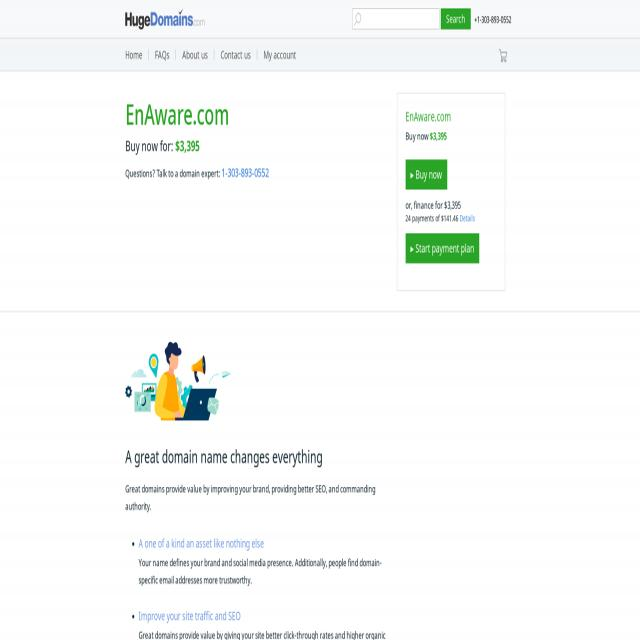button: (125, 342, 231, 420), (405, 234, 479, 263), (125, 9, 205, 29), (405, 160, 447, 189), (257, 44, 303, 65), (214, 44, 257, 65), (176, 44, 214, 65), (440, 9, 470, 29), (148, 44, 176, 65), (125, 44, 149, 65), (499, 49, 507, 63)
field: (352, 9, 440, 29)
